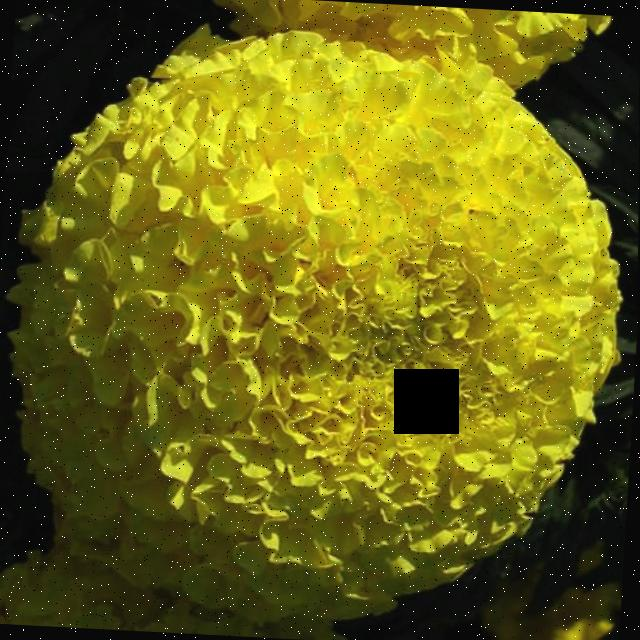marigold: (17, 11, 640, 625)
